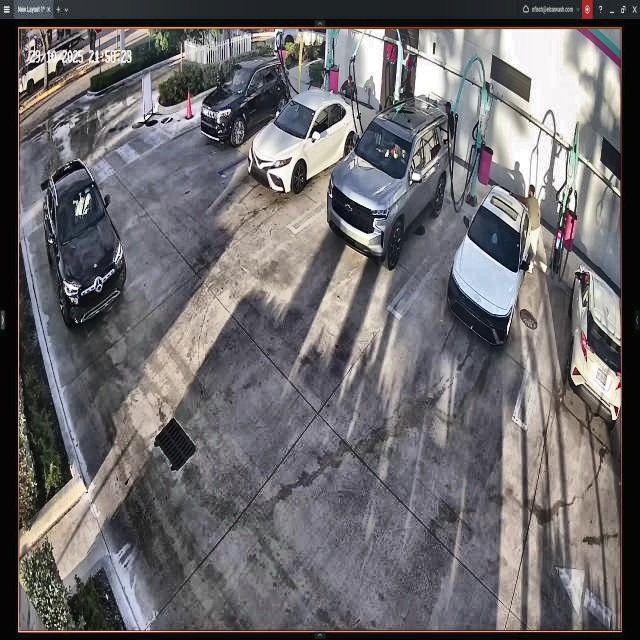Car: (329, 97, 452, 273), (450, 188, 530, 348), (250, 89, 360, 194)
